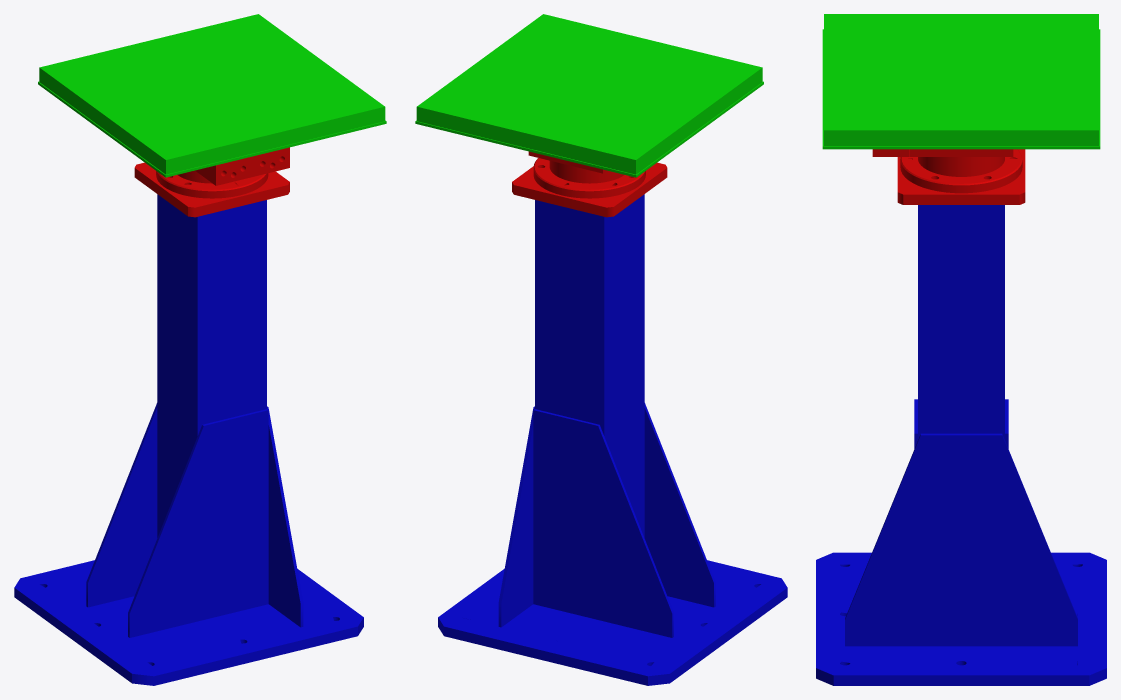
Rendered from Station.fbx.
3 renders of one model, left to right at view 1: azimuth 30°, elevation 25°; view 2: azimuth 150°, elevation 25°; view 3: azimuth 270°, elevation 25°, orthographic. The views are drawn at different scales.
Parts seen in each view (by area): view 1: Support.003; view 2: Support.003; view 3: Support.003.
Boxes of the visible parts, x1,y1,x2,y2 form: Support.003: (14, 14, 386, 685); Support.003: (415, 14, 787, 685); Support.003: (816, 14, 1106, 685).
Size of the model in its own units: 53.85 by 107 by 50.
